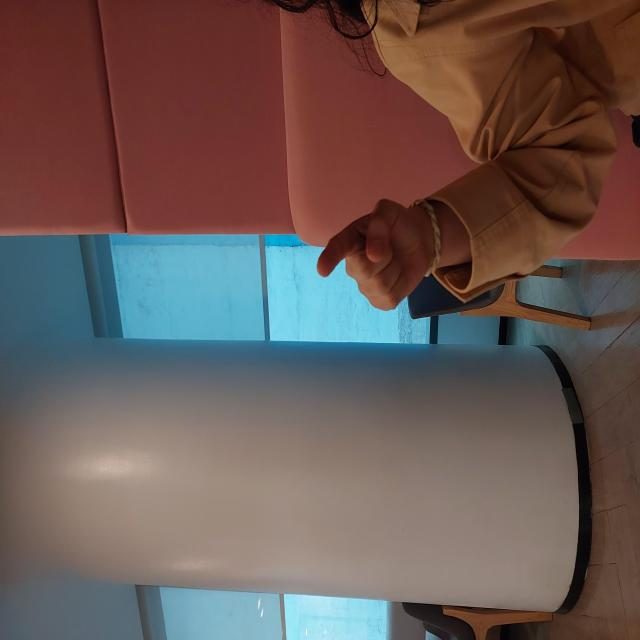Z: (327, 314, 446, 438)
